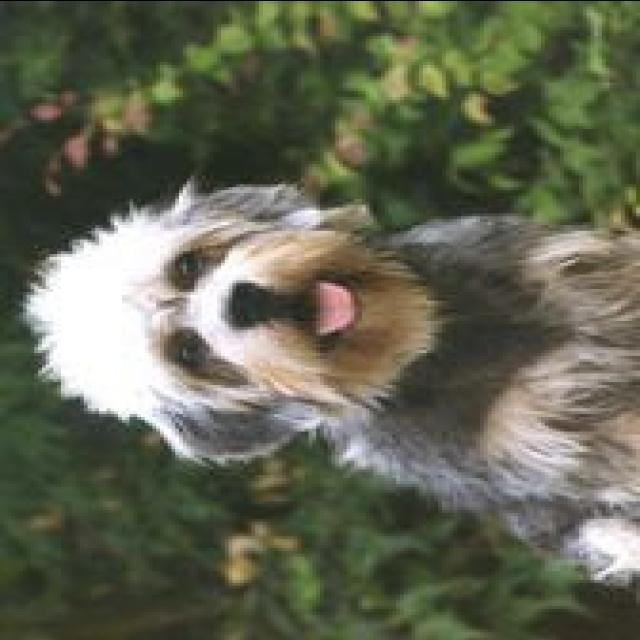dandie_dinmont: (11, 183, 636, 600)
